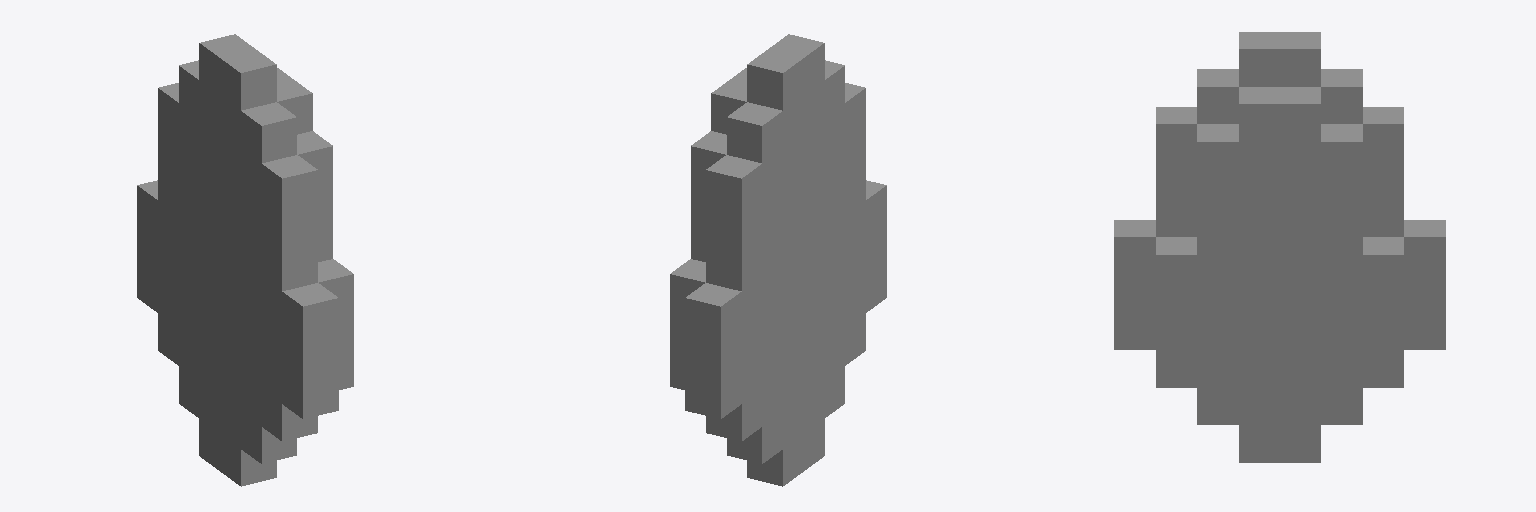
File: GlowGem2.obj
3 views of the same model, side by side, from view 1: azimuth 30°, elevation 25°; view 2: azimuth 150°, elevation 25°; view 3: azimuth 270°, elevation 25° (orthographic).
Parts seen in each view (by area): view 1: PurpCrys; view 2: PurpCrys; view 3: PurpCrys.
Part boxes in pixels (bbox=[...]): PurpCrys: bbox=[137, 34, 353, 486]; PurpCrys: bbox=[670, 34, 886, 486]; PurpCrys: bbox=[1114, 32, 1445, 462].
Size of the model in its own units: 0.0319 by 0.1753 by 0.1275.